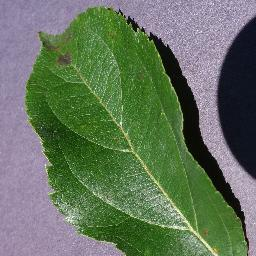apple healthy: (23, 4, 249, 255)
